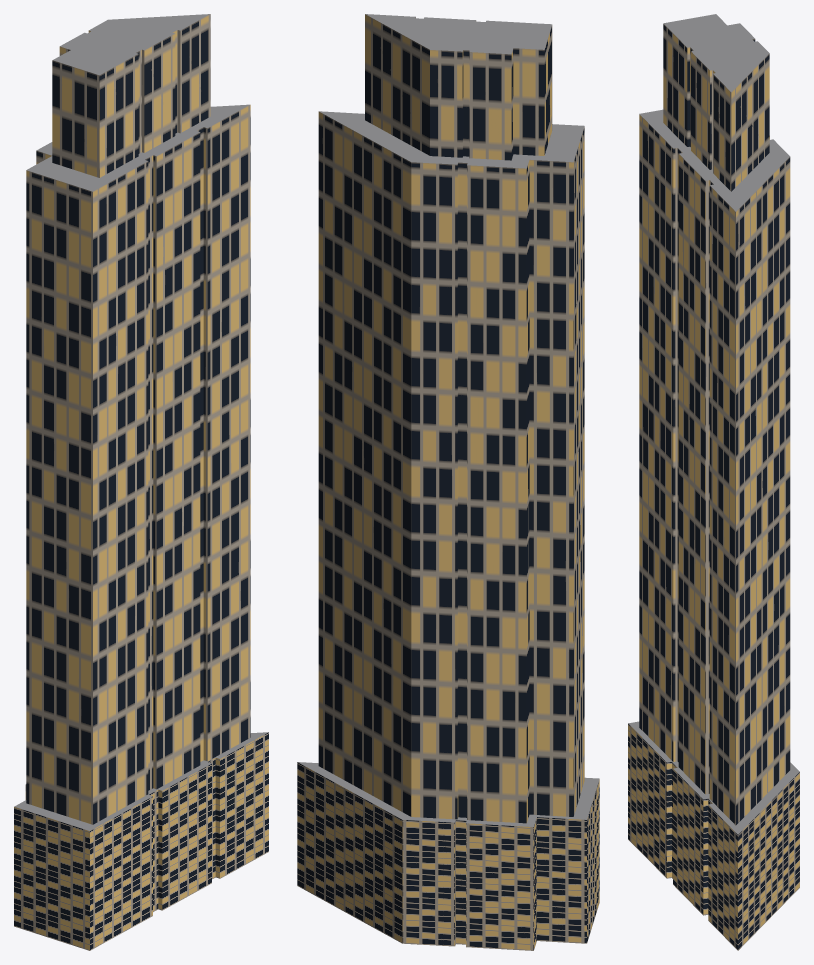
Rendered from valencia-tower.glb.
3 renders of one model, left to right at view 1: azimuth 30°, elevation 25°; view 2: azimuth 150°, elevation 25°; view 3: azimuth 270°, elevation 25°, orthographic. The views are drawn at different scales.
Parts seen in each view (by area): view 1: valencia-tower; view 2: valencia-tower; view 3: valencia-tower.
Boxes of the visible parts, box(x1,y1,x2,y2) form: valencia-tower: box(14, 14, 268, 950); valencia-tower: box(297, 14, 599, 950); valencia-tower: box(628, 14, 799, 950).
Bounding box in the file's own units: 0.5644 × 1.72 × 0.3238.
2 materials, 1 textured.
